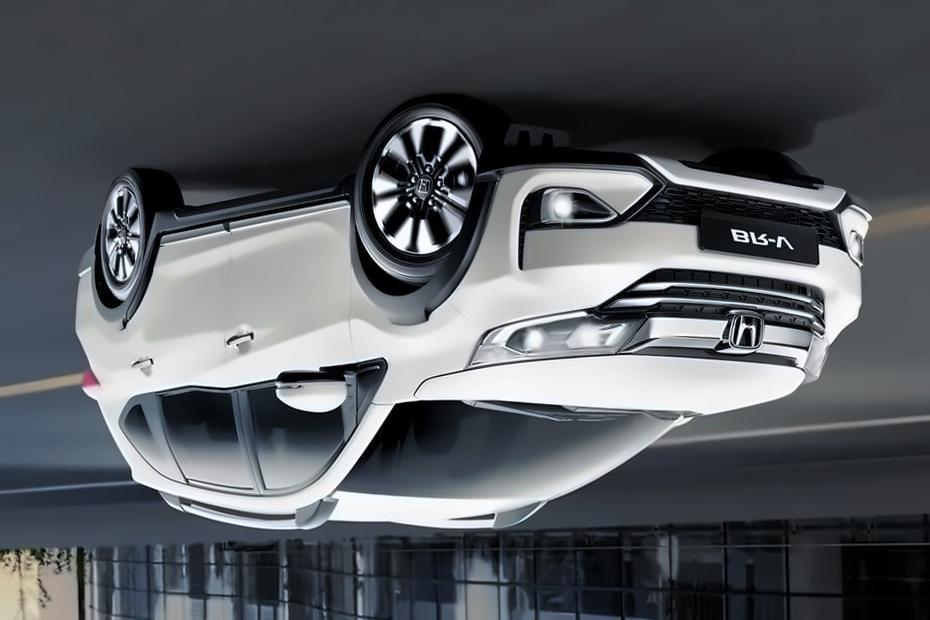Car hood: (410, 352, 807, 418)
Fender - -F-L-: (346, 196, 487, 409)
Fender - -R-L-: (91, 319, 134, 398)
Front bumper: (456, 136, 873, 317)
Headlight - -L-: (461, 307, 650, 373)
Headlight - -R-: (791, 327, 830, 386)
Passenger-s door - -F-L-: (226, 196, 345, 507)
Passenger-s door - -R-L-: (120, 216, 225, 502)
Rear bumper: (55, 237, 109, 329)
Rear light - -L-: (68, 356, 106, 404)
Side bumper - -L-: (143, 172, 354, 249)
Side mirror - -L-: (267, 365, 352, 418)
